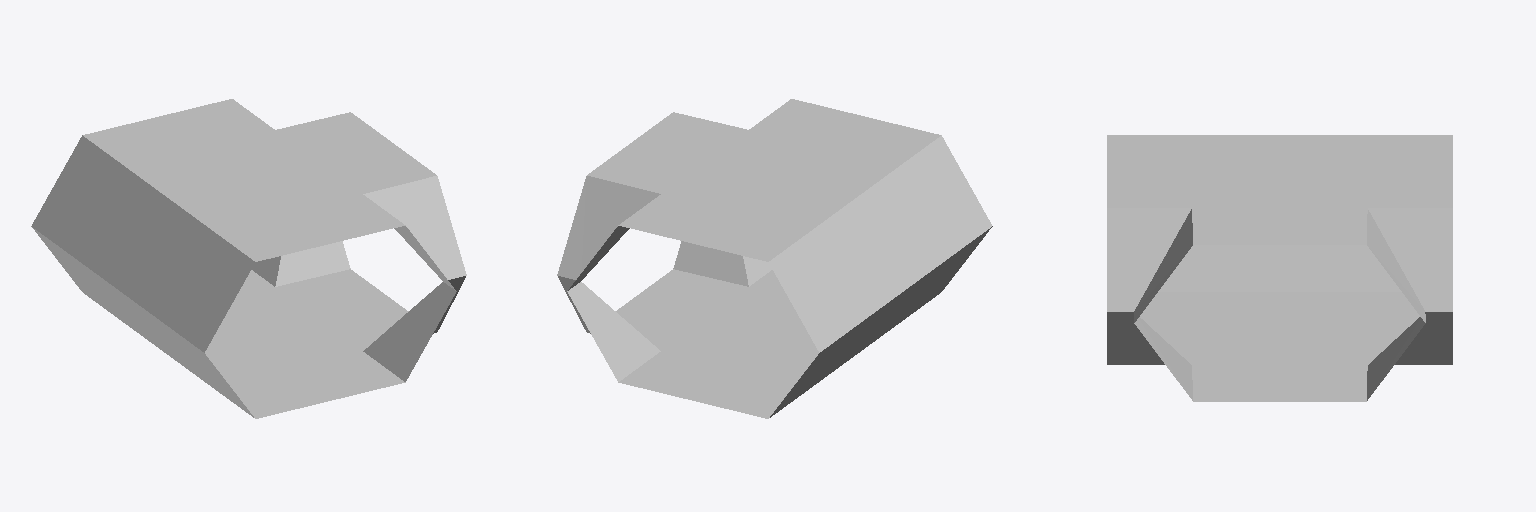
Rendered from tjunction.obj.
3 renders of one model, left to right at view 1: azimuth 30°, elevation 25°; view 2: azimuth 150°, elevation 25°; view 3: azimuth 270°, elevation 25°, orthographic.
Parts seen in each view (by area): view 1: Cube.001_Cube.005; view 2: Cube.001_Cube.005; view 3: Cube.001_Cube.005.
Part boxes in pixels (bbox=[...]): Cube.001_Cube.005: bbox=[31, 99, 466, 418]; Cube.001_Cube.005: bbox=[557, 99, 992, 418]; Cube.001_Cube.005: bbox=[1107, 135, 1452, 401].
Bounding box in the file's own units: 3.68 × 2 × 4.